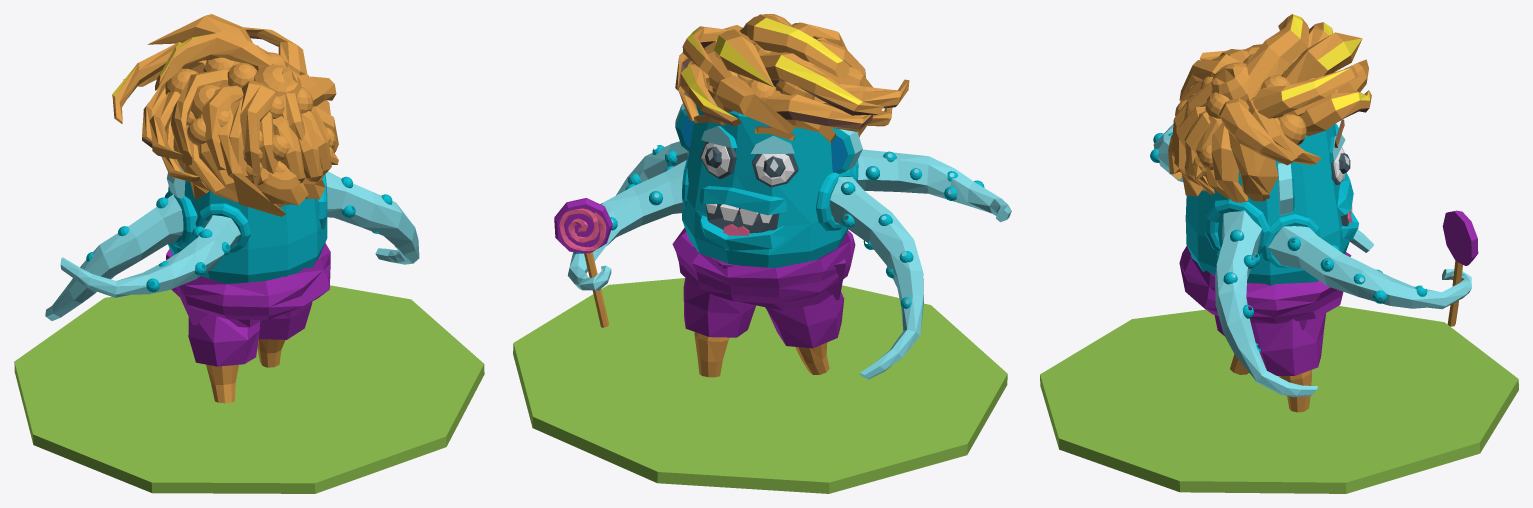
Rendered from Schmugg.glb.
3 renders of one model, left to right at view 1: azimuth 30°, elevation 25°; view 2: azimuth 150°, elevation 25°; view 3: azimuth 270°, elevation 25°, orthographic. The views are drawn at different scales.
Visible parts, largest first — view 1: group890096216, group1372074893, group782443832, group2014834785, group175204387, group238121598, group840247971, group1012718476, group1027225440, group1882373723, group1578088795, group2009839400 (+24 smaller); view 2: group890096216, group1372074893, group782443832, group2014834785, group175204387, group1342560137, group373242684, group2009839400, group1012718476, group840247971, group273841858, group99601385 (+20 smaller); view 3: group890096216, group1372074893, group1342560137, group238121598, group782443832, group273841858, group1012718476, group2005118633, group775011040, group1962497302, group373242684, group2085962904 (+14 smaller).
Part boxes in pixels (<box>): group890096216: <box>14,285,484,493</box>; group1372074893: <box>168,147,327,284</box>; group782443832: <box>166,243,330,319</box>; group2014834785: <box>45,194,183,320</box>; group175204387: <box>60,215,240,297</box>; group238121598: <box>325,171,419,264</box>; group840247971: <box>188,314,260,366</box>; group1012718476: <box>155,30,280,90</box>; group1027225440: <box>240,80,275,187</box>; group1882373723: <box>171,69,229,165</box>; group1578088795: <box>218,102,285,216</box>; group2009839400: <box>112,42,206,123</box>; group890096216: <box>513,278,1007,493</box>; group1372074893: <box>682,97,848,268</box>; group782443832: <box>672,227,855,303</box>; group2014834785: <box>830,177,923,379</box>; group175204387: <box>857,149,1011,222</box>; group1342560137: <box>567,160,686,290</box>; group373242684: <box>554,198,612,327</box>; group2009839400: <box>760,51,883,115</box>; group1012718476: <box>739,14,849,78</box>; group840247971: <box>765,292,844,348</box>; group273841858: <box>683,278,755,337</box>; group99601385: <box>765,90,873,131</box>; group890096216: <box>1040,306,1518,493</box>; group1372074893: <box>1185,124,1349,285</box>; group1342560137: <box>1267,226,1471,309</box>; group238121598: <box>1215,210,1317,397</box>; group782443832: <box>1179,246,1346,323</box>; group273841858: <box>1251,313,1325,375</box>; group1012718476: <box>1245,14,1309,100</box>; group2005118633: <box>1253,66,1358,118</box>; group775011040: <box>1282,32,1362,84</box>; group1962497302: <box>1219,98,1297,165</box>; group373242684: <box>1442,210,1478,326</box>; group2085962904: <box>1300,90,1371,136</box>.
Size of the model in its own units: 0.858 by 0.736 by 0.85.
